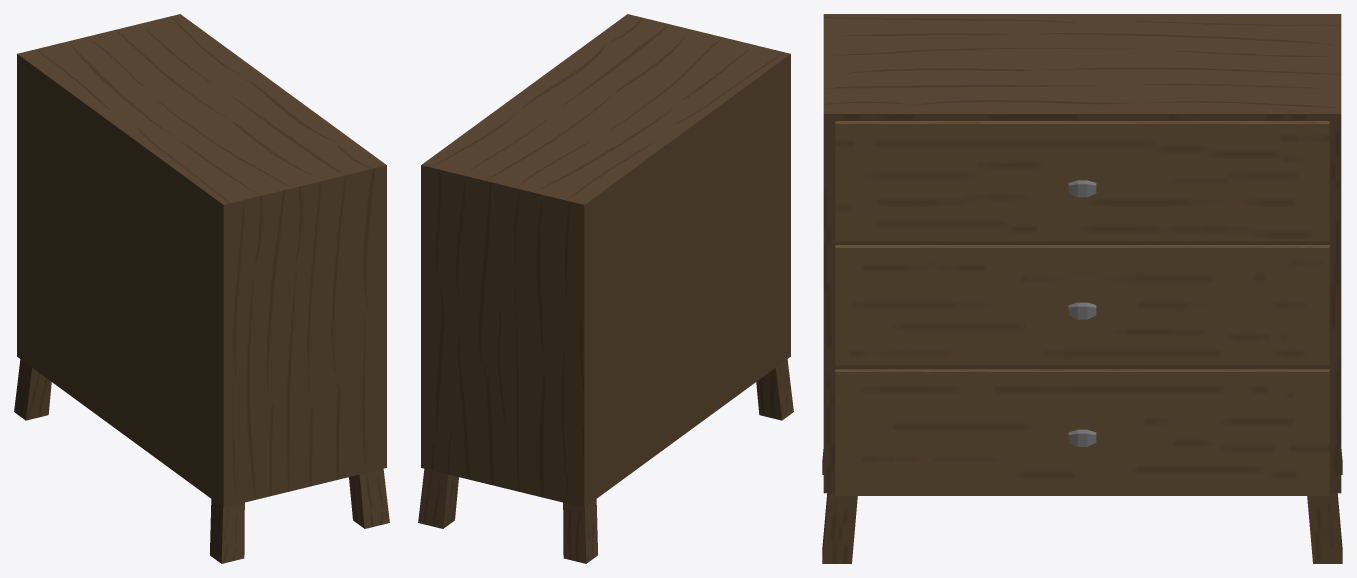
The model's file is HalfWardrobe.fbx.
3 renders of one model, left to right at view 1: azimuth 30°, elevation 25°; view 2: azimuth 150°, elevation 25°; view 3: azimuth 270°, elevation 25°, orthographic. The views are drawn at different scales.
Visible parts, largest first — view 1: halfWardrobe.001; view 2: halfWardrobe.001; view 3: halfWardrobe.001.
Part boxes in pixels (bbox=[...]): halfWardrobe.001: bbox=[14, 14, 389, 563]; halfWardrobe.001: bbox=[418, 14, 793, 563]; halfWardrobe.001: bbox=[822, 14, 1342, 563].
Bounding box in the file's own units: 69.79 × 132 × 139.
1 material, 1 textured.
